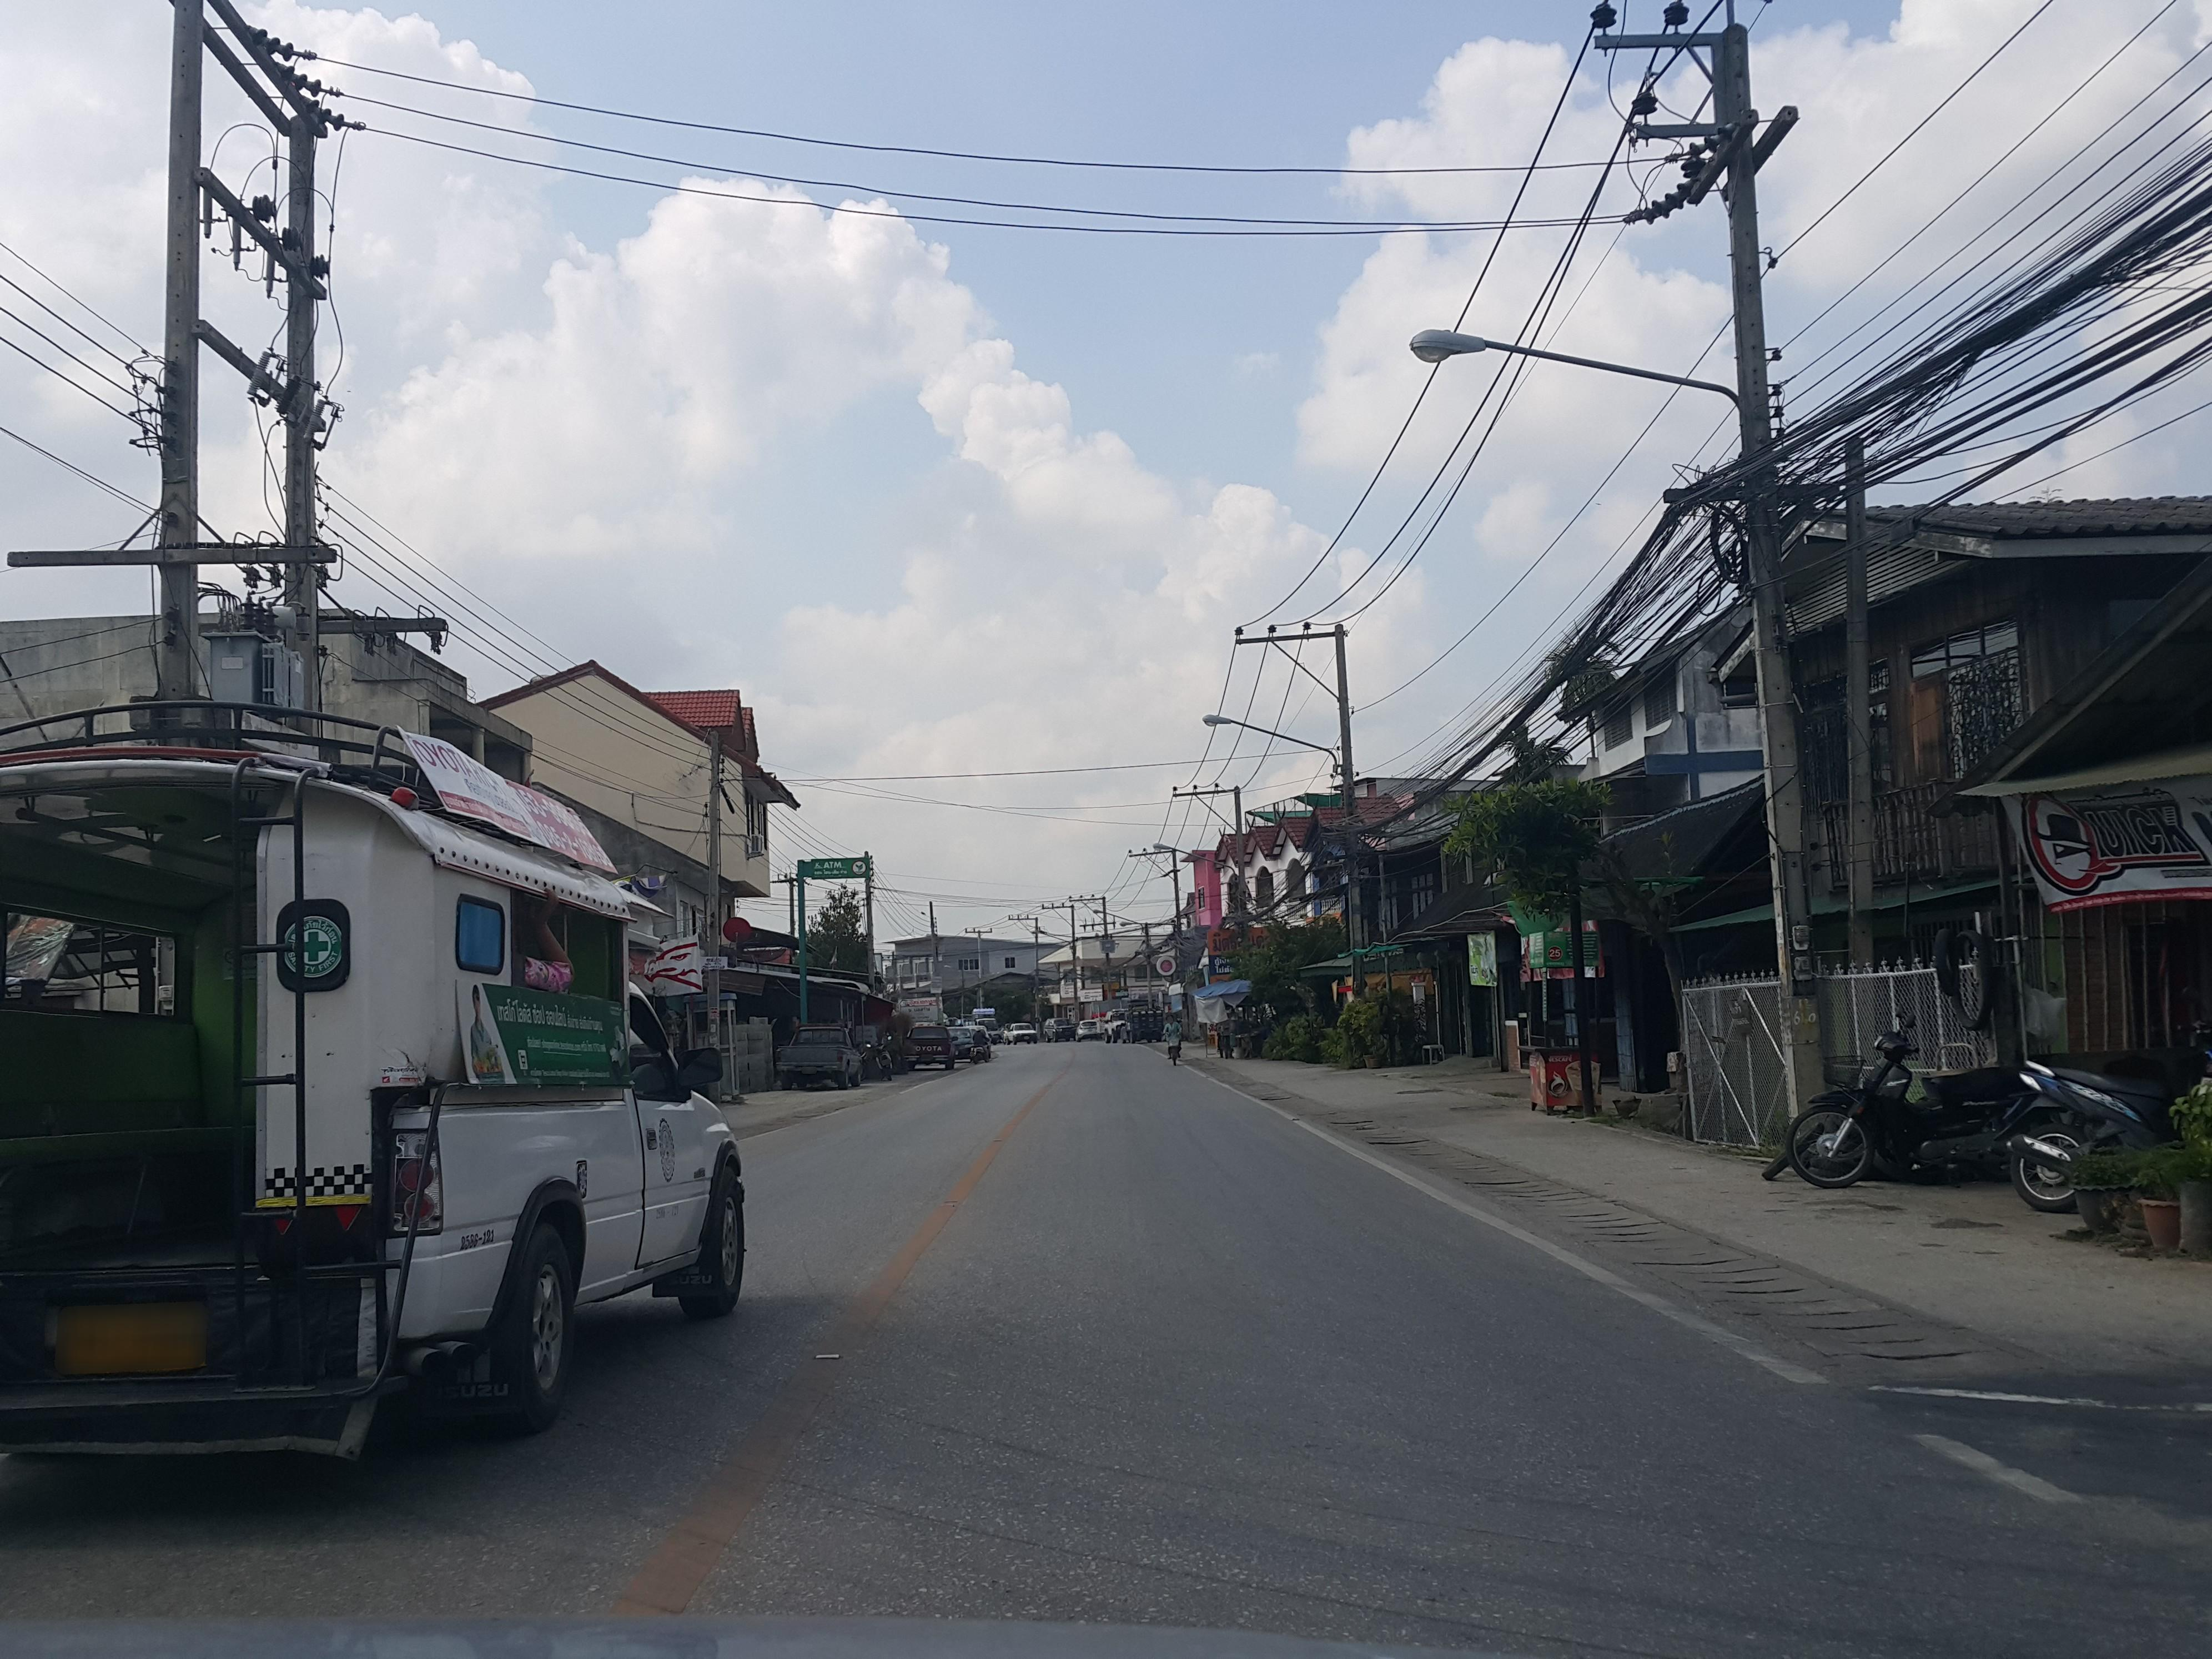vinyl banner: (1963, 755, 2212, 948), (401, 711, 637, 870)
